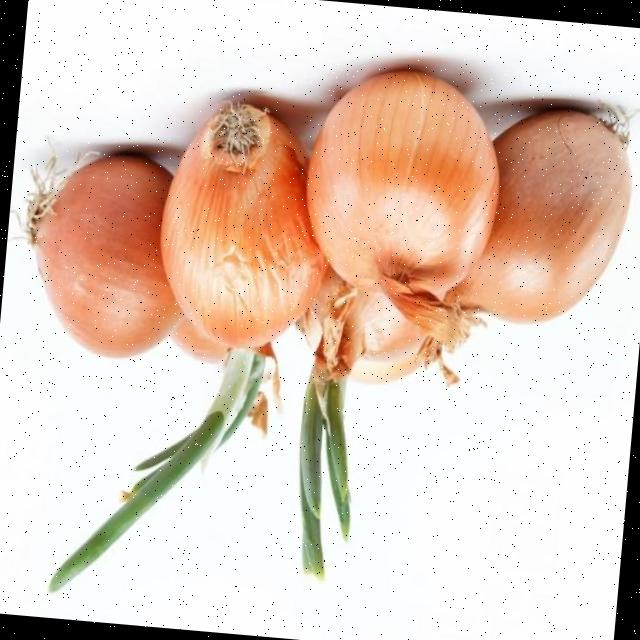Onion: (306, 68, 497, 344), (158, 101, 324, 345), (447, 107, 630, 319), (31, 153, 180, 356)
